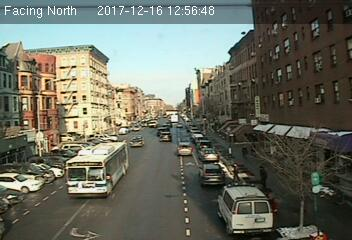bus: (66, 142, 132, 198)
car: (199, 163, 225, 186), (202, 149, 220, 162), (178, 141, 193, 156), (130, 134, 144, 147), (160, 131, 173, 142)
pedestrian: (230, 162, 243, 186)
police: (218, 179, 272, 234)
